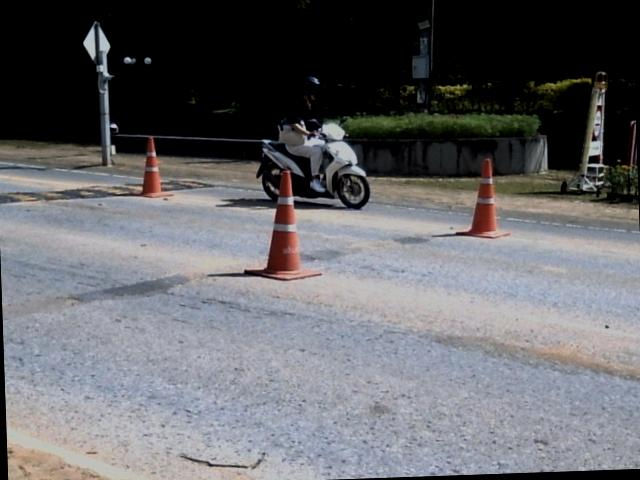helmet: (298, 75, 322, 100)
motor: (256, 124, 369, 208)
person: (279, 75, 324, 191)
